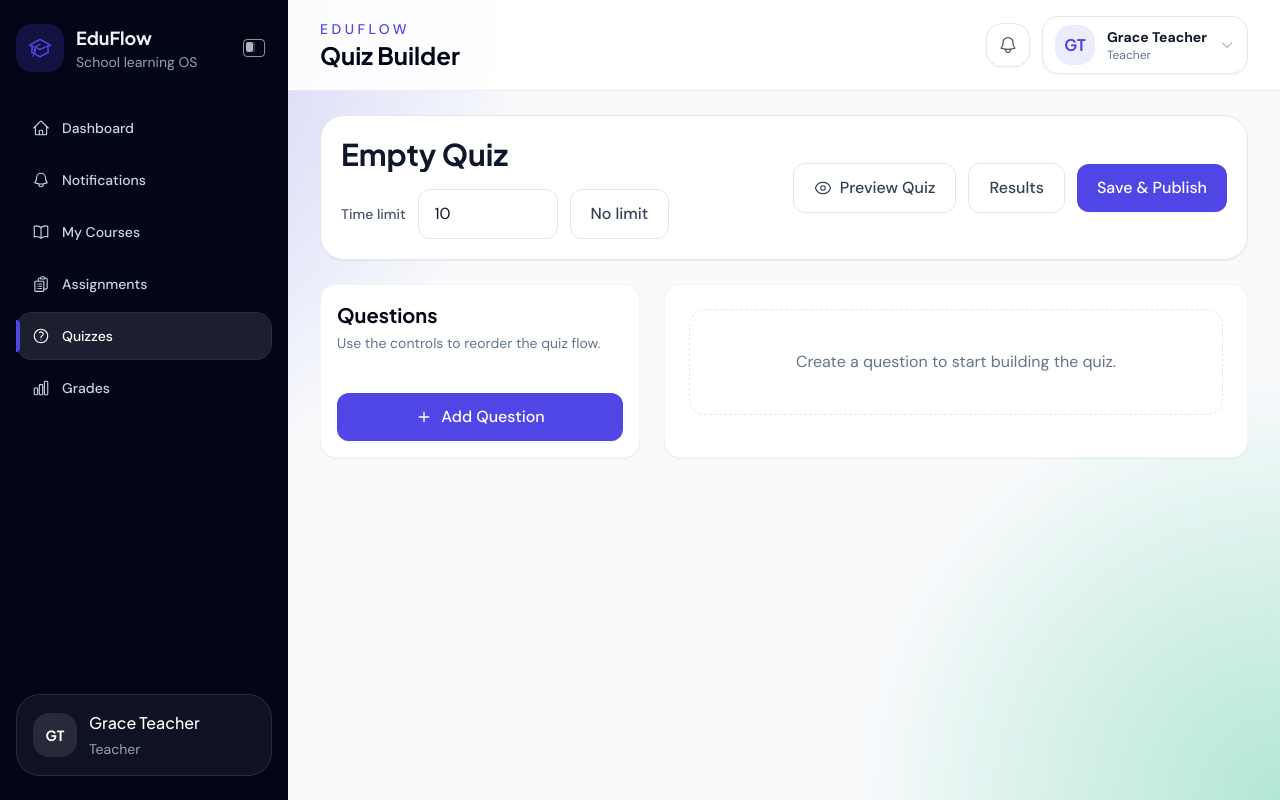
Test: QuizBuilderPage › can add the first question without crashing when the quiz starts empty
Click the button "Add Question" at (480, 417), box x1=337 y1=393 x2=623 y2=441
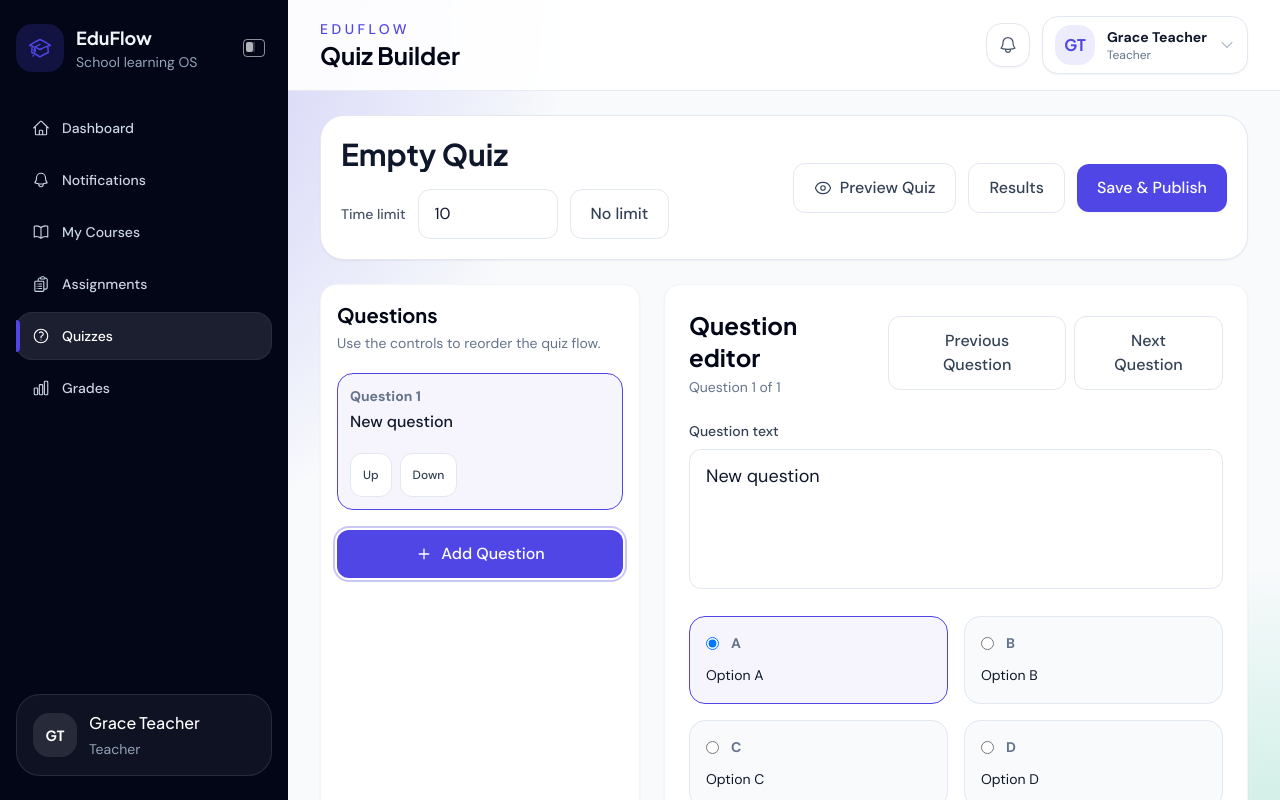
Check: the text box showing "New question" is shown, box x1=689 y1=449 x2=1223 y2=589
